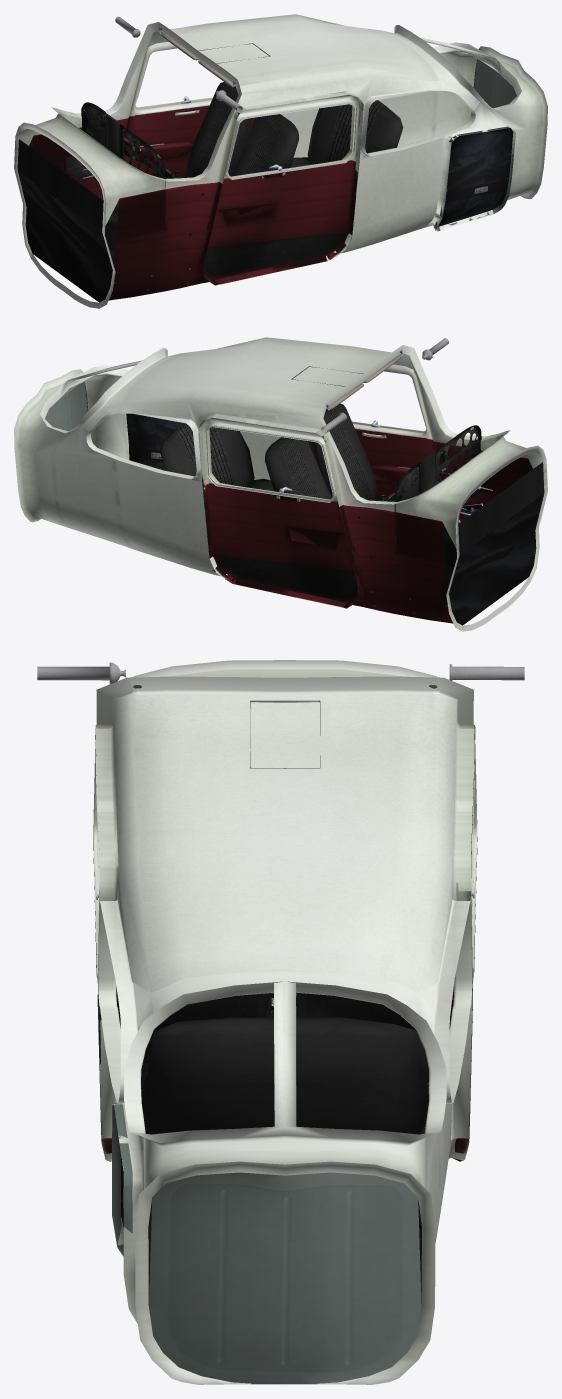
The model's file is interior.glb.
3 views of the same model, one above another, from view 1: azimuth 30°, elevation 25°; view 2: azimuth 150°, elevation 25°; view 3: azimuth 270°, elevation 25° (orthographic). The views are drawn at different scales.
Visible parts, largest first — view 1: chassis, doorint_left, Firewall, baggagedoorinterior, doorint_right, backseat_left, pilotseat_left, pilotseat_right, panel_1_gauges, windowframeleftint, panel_1_1_right, InstrumentCover; view 2: chassis, doorint_right, Firewall, backseat_left, doorint_left, pilotseat_right, pilotseat_left, baggagedoorinterior, panel_1_gauges, windowframerightint, panel_1_1_right, InstrumentCover; view 3: chassis, Firewall, backseat_left, baggagedoorinterior, pilotseat_left, pilotseat_right, doorint_right, doorint_left, AirVent_left, AirVent_right.
Boxes of the visible parts, box(x1,y1,x2,y2) form: chassis: box(14, 14, 547, 308); doorint_left: box(203, 91, 363, 285); Firewall: box(17, 59, 516, 302); baggagedoorinterior: box(434, 126, 513, 231); doorint_right: box(123, 41, 255, 176); backseat_left: box(290, 100, 403, 167); pilotseat_left: box(232, 114, 298, 176); pilotseat_right: box(174, 82, 253, 178); panel_1_gauges: box(119, 124, 165, 187); windowframeleftint: box(226, 102, 356, 179); panel_1_1_right: box(81, 102, 105, 147); InstrumentCover: box(104, 112, 120, 157); chassis: box(14, 337, 547, 631); doorint_right: box(198, 417, 358, 608); Firewall: box(45, 382, 544, 625); backseat_left: box(160, 423, 273, 491); doorint_left: box(308, 364, 441, 498); pilotseat_right: box(265, 437, 331, 499); pilotseat_left: box(311, 403, 387, 501); baggagedoorinterior: box(126, 413, 183, 470); panel_1_gauges: box(435, 425, 481, 484); windowframerightint: box(205, 425, 335, 502); panel_1_1_right: box(394, 461, 420, 534); InstrumentCover: box(419, 450, 436, 493); chassis: box(94, 660, 474, 1384); Firewall: box(148, 1172, 421, 1384); backseat_left: box(141, 1017, 428, 1134); baggagedoorinterior: box(112, 1103, 132, 1256); pilotseat_left: box(143, 993, 271, 1062); pilotseat_right: box(296, 992, 424, 1048); doorint_right: box(449, 725, 477, 1161); doorint_left: box(93, 728, 120, 1161); AirVent_left: box(37, 662, 125, 683); AirVent_right: box(449, 664, 524, 680).
Size of the model in its own units: 2.93 by 1.28 by 1.35.
11 materials, 11 textured.
